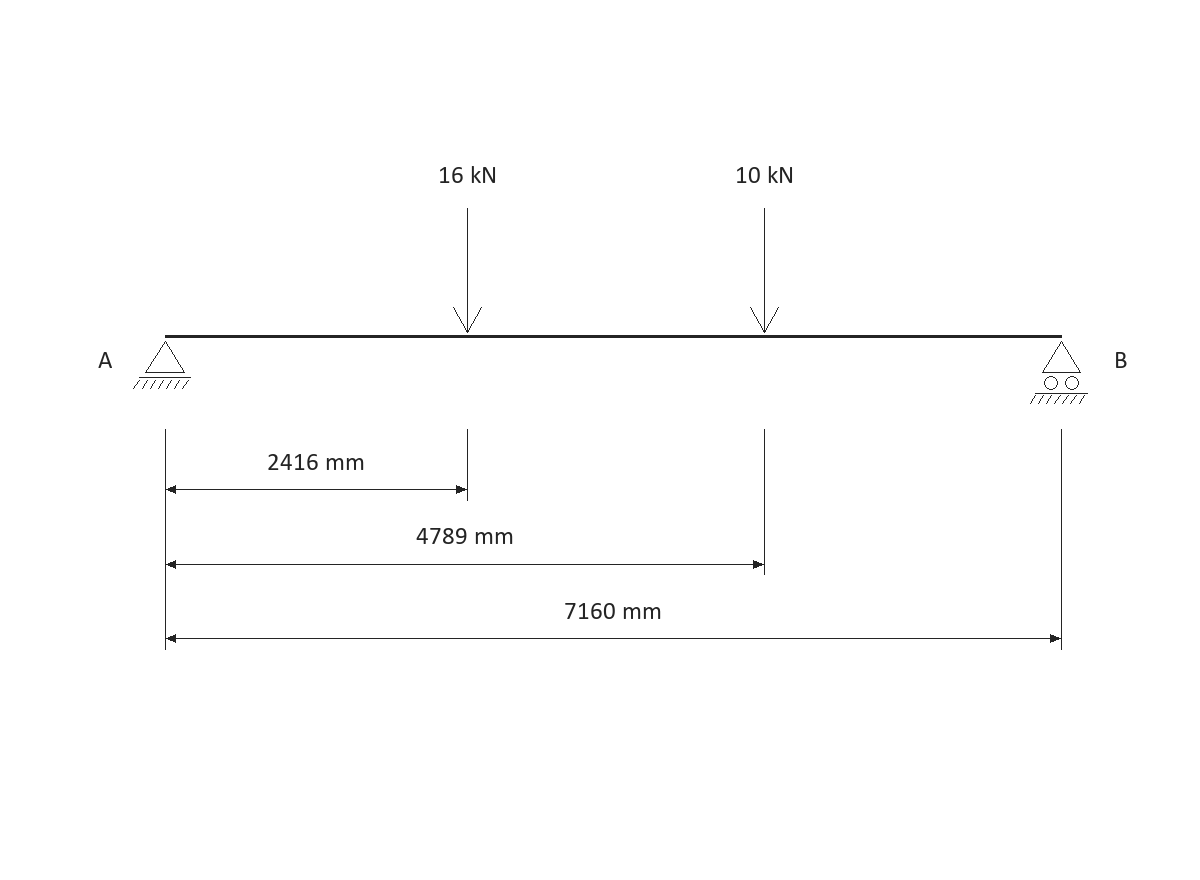pin_support: (133, 341, 191, 389)
point_load: (453, 208, 482, 333), (750, 208, 779, 333)
roller_support: (1030, 341, 1088, 404)
